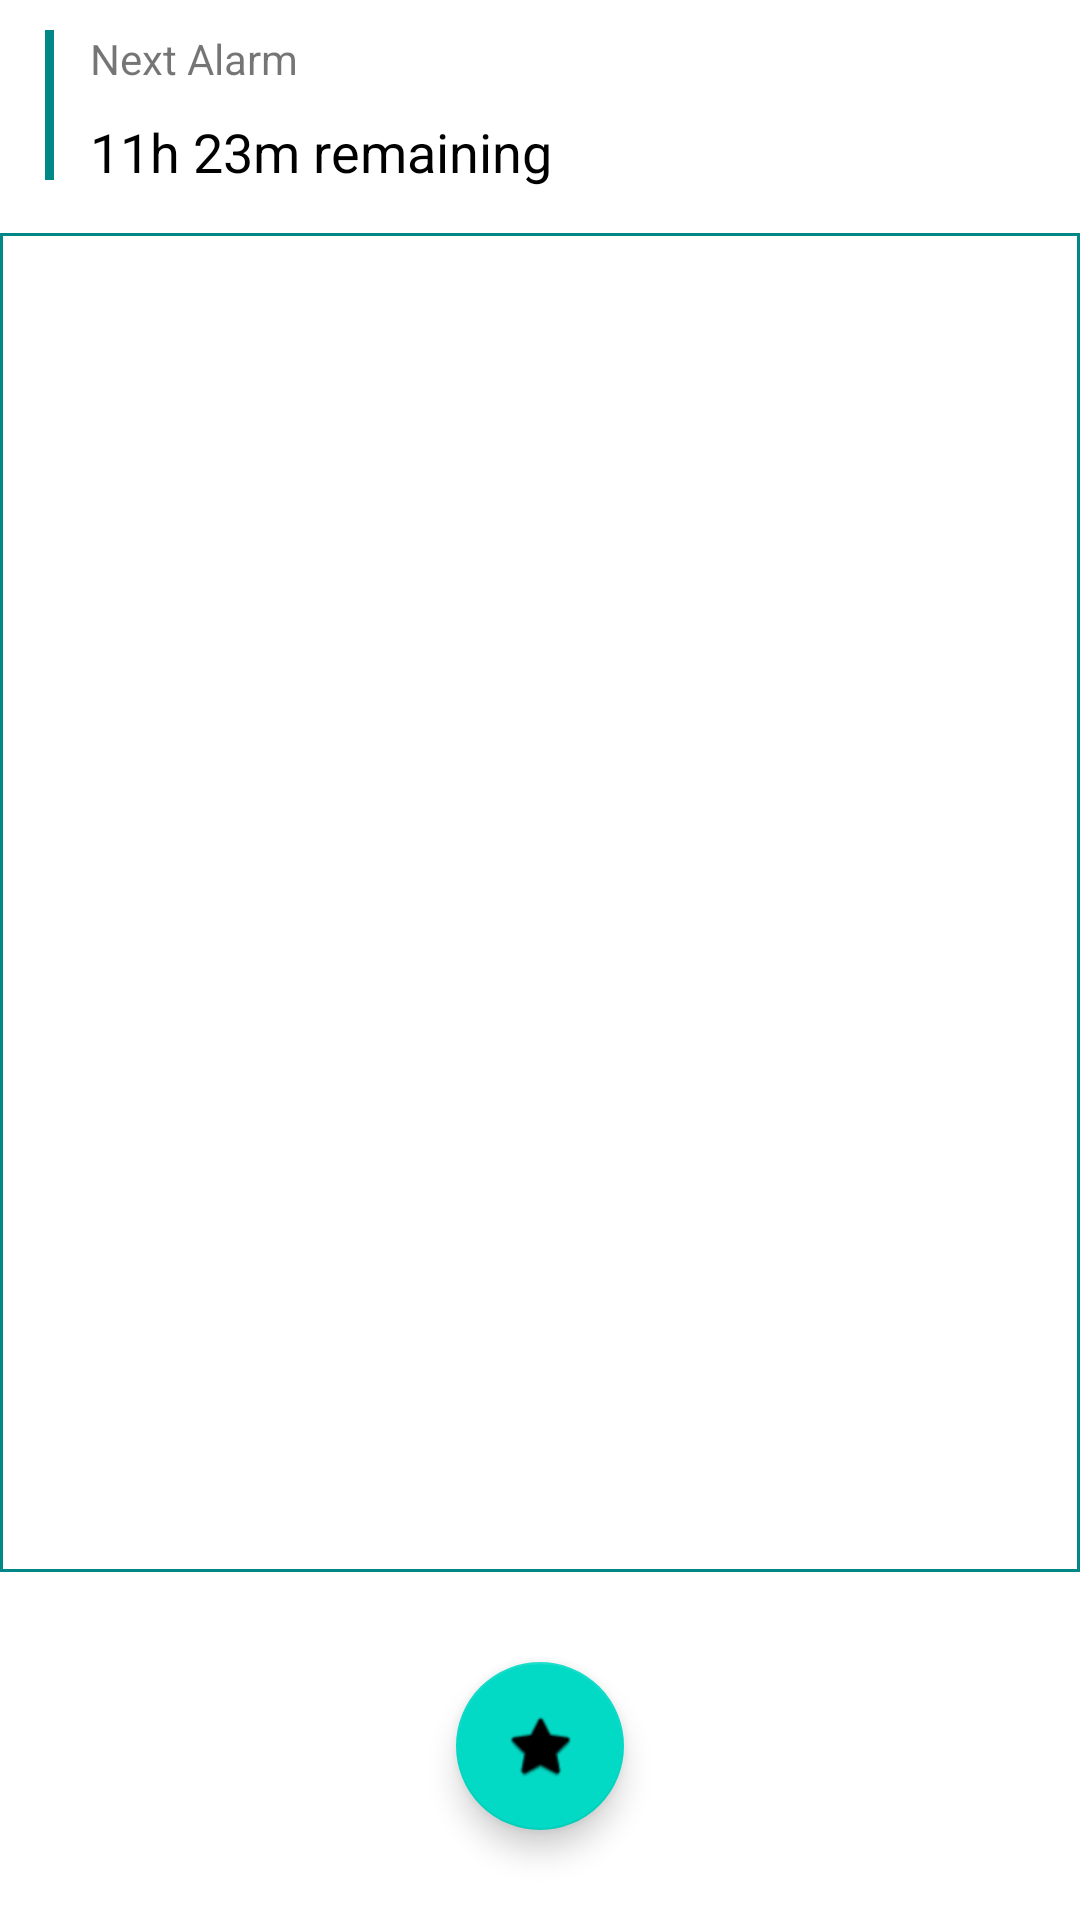

Named icons in this screenshot (1080px x 1920px) and their bounding boxes, (x1, y1, x2, y2):
star: (456, 1662, 624, 1830)
